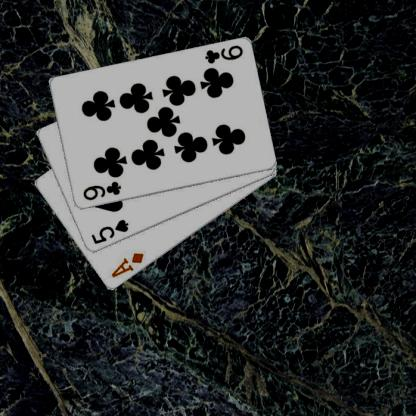5S: (89, 217, 129, 245)
9C: (80, 179, 122, 202), (202, 43, 244, 65)
AD: (108, 250, 145, 279)
